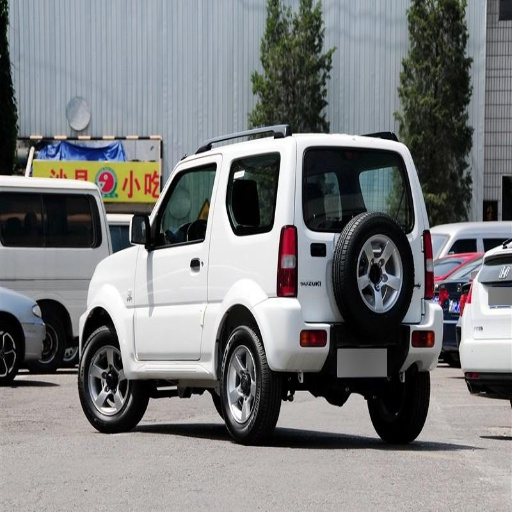trunk: (251, 299, 322, 369), (2, 281, 55, 331)
